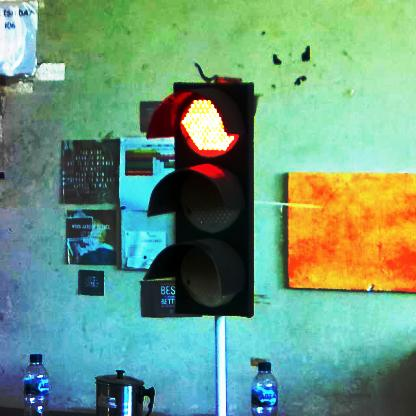Traffic Light -Green-: (148, 82, 256, 316)
